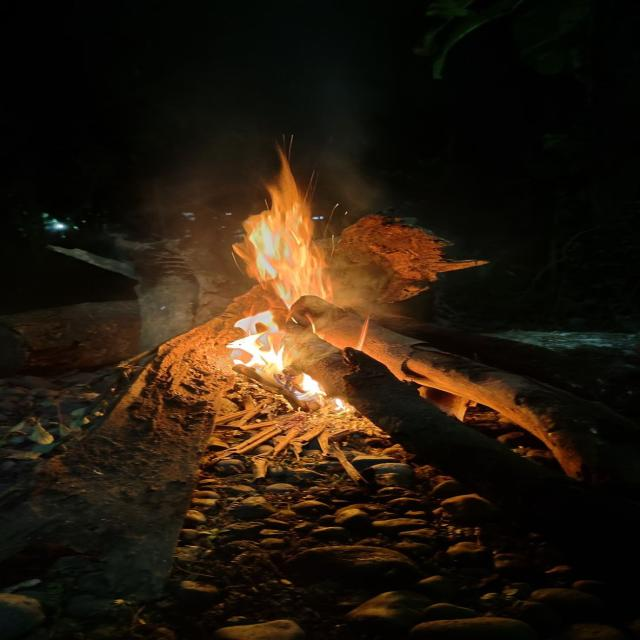fire: (231, 146, 337, 305), (228, 307, 289, 377)
